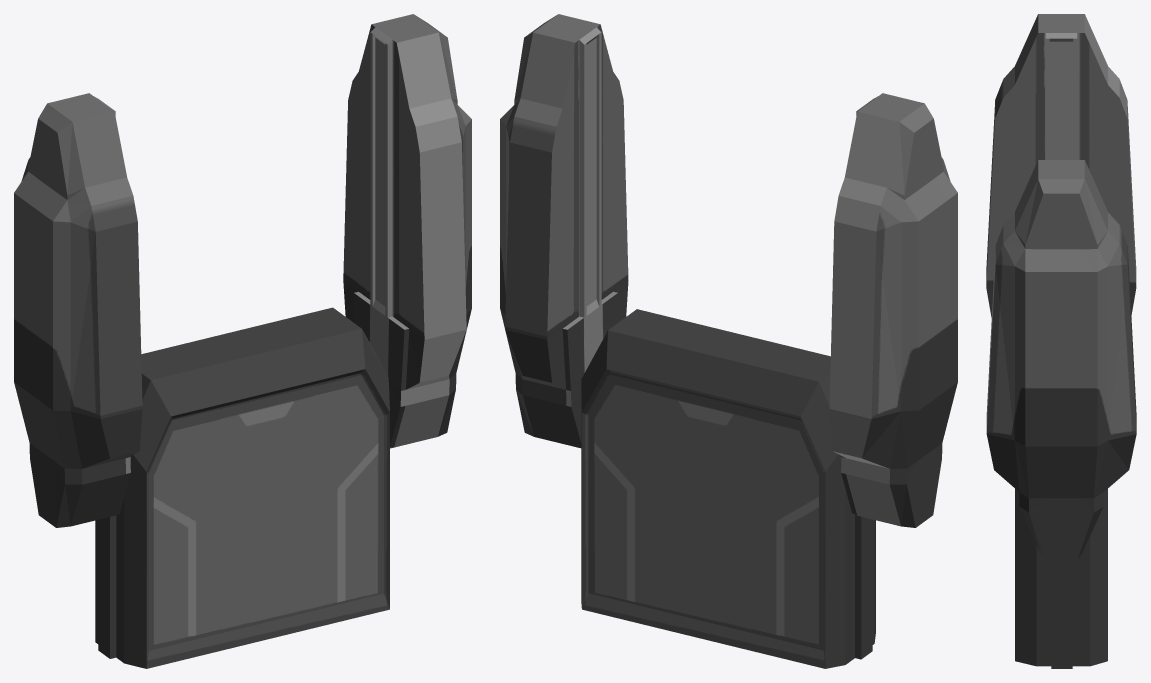
File: puzzle1.dae
3 views of the same model, side by side, from view 1: azimuth 30°, elevation 25°; view 2: azimuth 150°, elevation 25°; view 3: azimuth 270°, elevation 25° (orthographic). The views are drawn at different scales.
Parts seen in each view (by area): view 1: Cube, Cube.002, Cube.001; view 2: Cube, Cube.002, Cube.001; view 3: Cube.001, Cube.002, Cube.
Boxes of the visible parts, x1=… form: Cube: x1=95, y1=307, x2=389, y2=668; Cube.002: x1=14, y1=93, x2=142, y2=527; Cube.001: x1=343, y1=14, x2=471, y2=448; Cube: x1=581, y1=309, x2=875, y2=668; Cube.002: x1=829, y1=93, x2=957, y2=527; Cube.001: x1=500, y1=14, x2=628, y2=448; Cube.001: x1=986, y1=160, x2=1136, y2=558; Cube.002: x1=986, y1=14, x2=1136, y2=317; Cube: x1=1015, y1=489, x2=1107, y2=668.
Size of the model in its own units: 3.17 by 1.07 by 4.
1 material, 1 textured.
